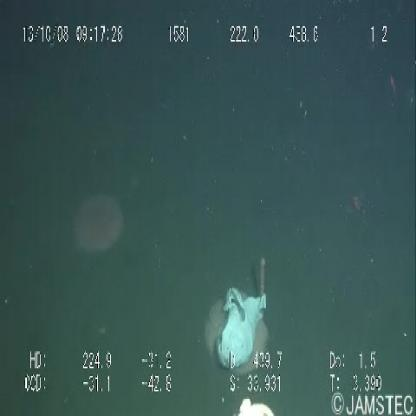Rác: (215, 284, 270, 374)
